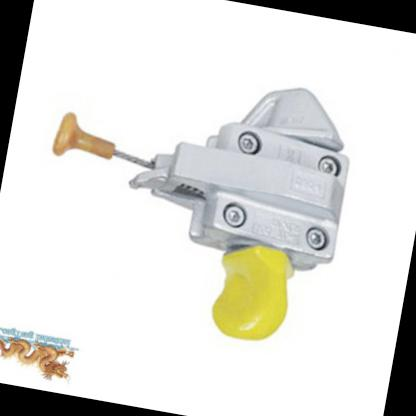Twistlock: (17, 42, 364, 362)
